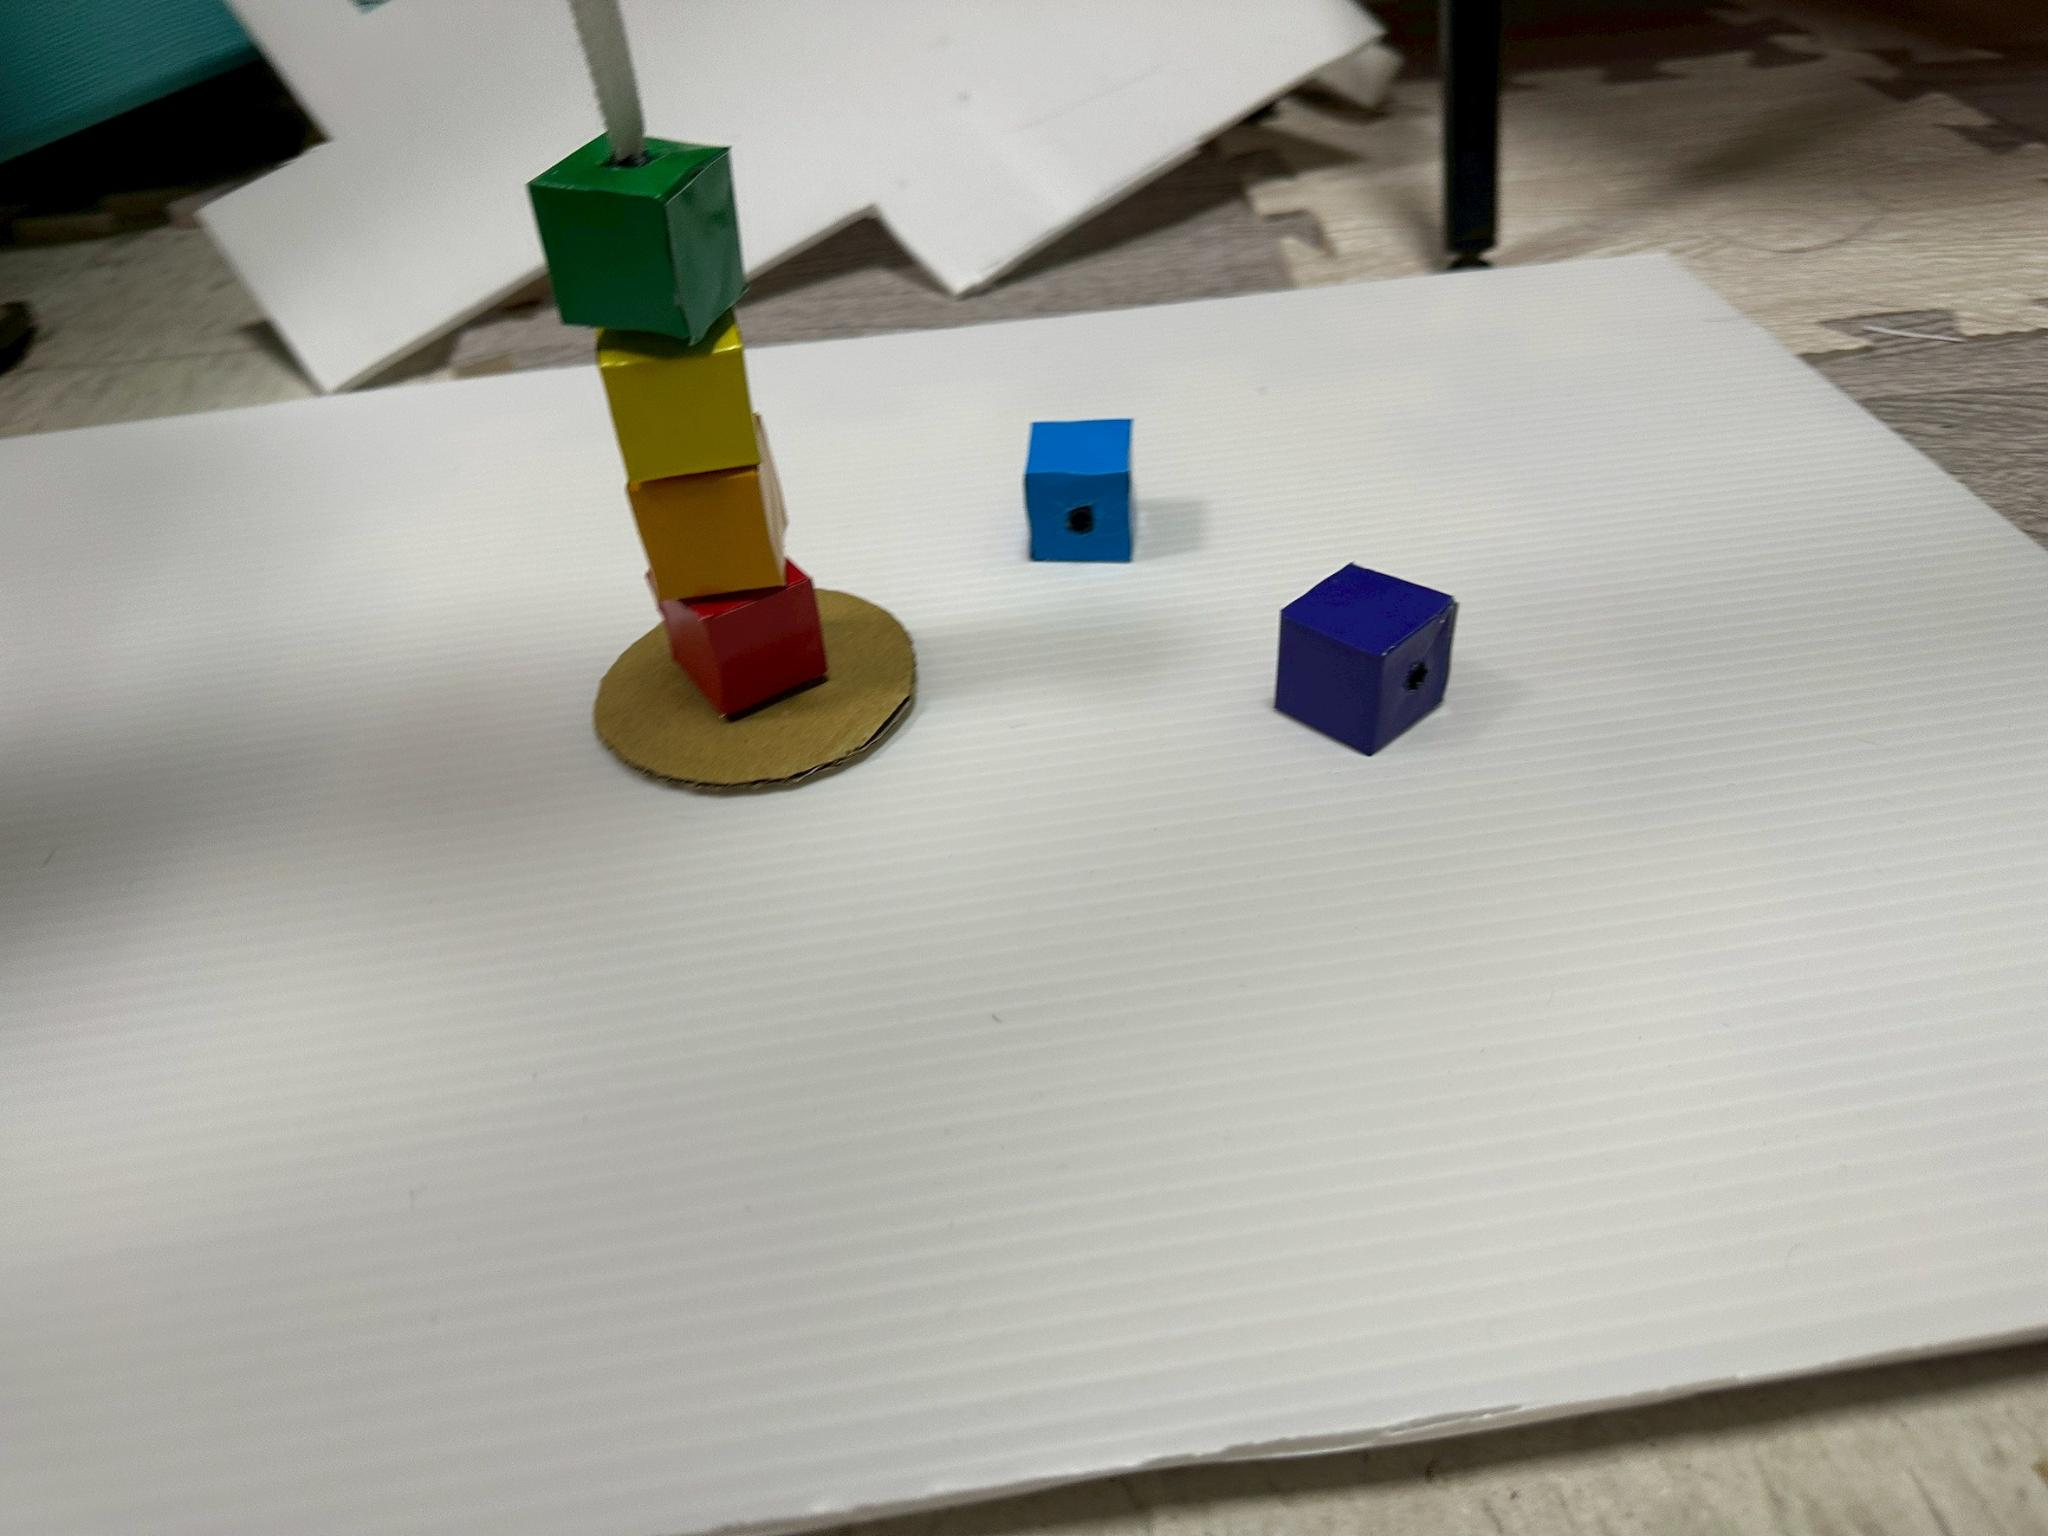base: (527, 134, 743, 345), (1274, 565, 1455, 755), (598, 311, 761, 486), (660, 560, 827, 718), (627, 457, 785, 597), (1026, 419, 1132, 560)
